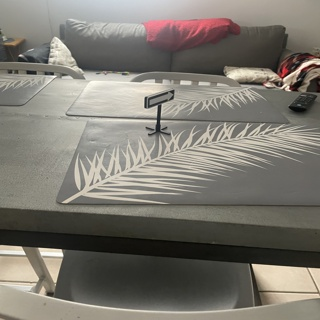sign_oneway_right: (144, 88, 172, 107)
